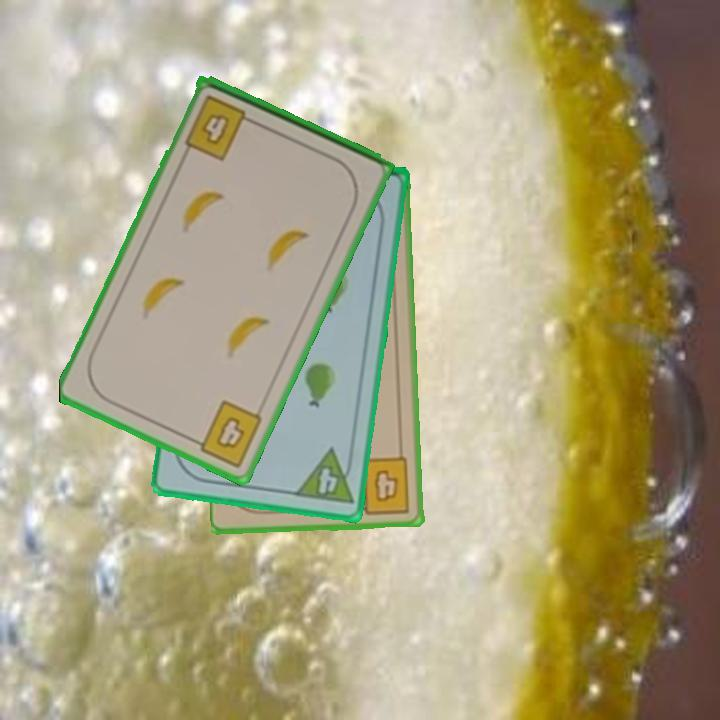4b: (187, 396, 266, 471), (181, 91, 259, 164), (351, 454, 413, 517)
4p: (291, 445, 357, 507)
